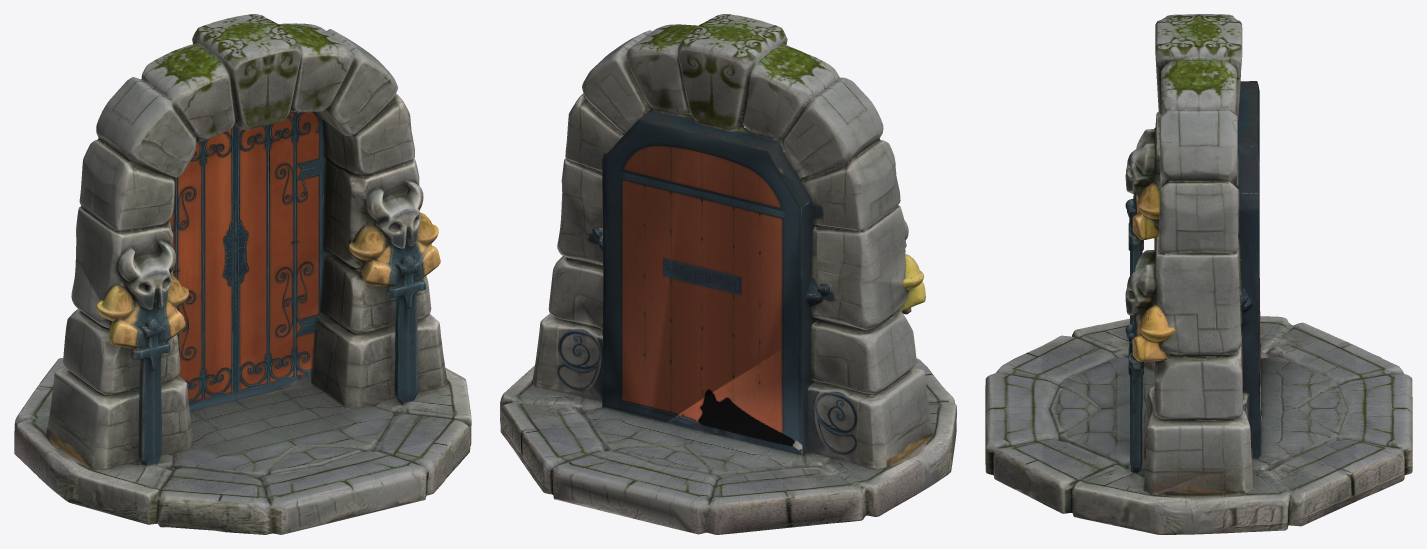
File: portal_closed.glb
3 views of the same model, side by side, from view 1: azimuth 30°, elevation 25°; view 2: azimuth 150°, elevation 25°; view 3: azimuth 270°, elevation 25° (orthographic).
Visible parts, largest first — view 1: Mesh1.0; view 2: Mesh1.0; view 3: Mesh1.0.
Part boxes in pixels (<box>): Mesh1.0: <box>14,14,471,534</box>; Mesh1.0: <box>500,14,956,534</box>; Mesh1.0: <box>985,14,1412,534</box>.
Bounding box in the file's own units: 1.91 × 1.88 × 1.78.
1 material, 1 textured.
